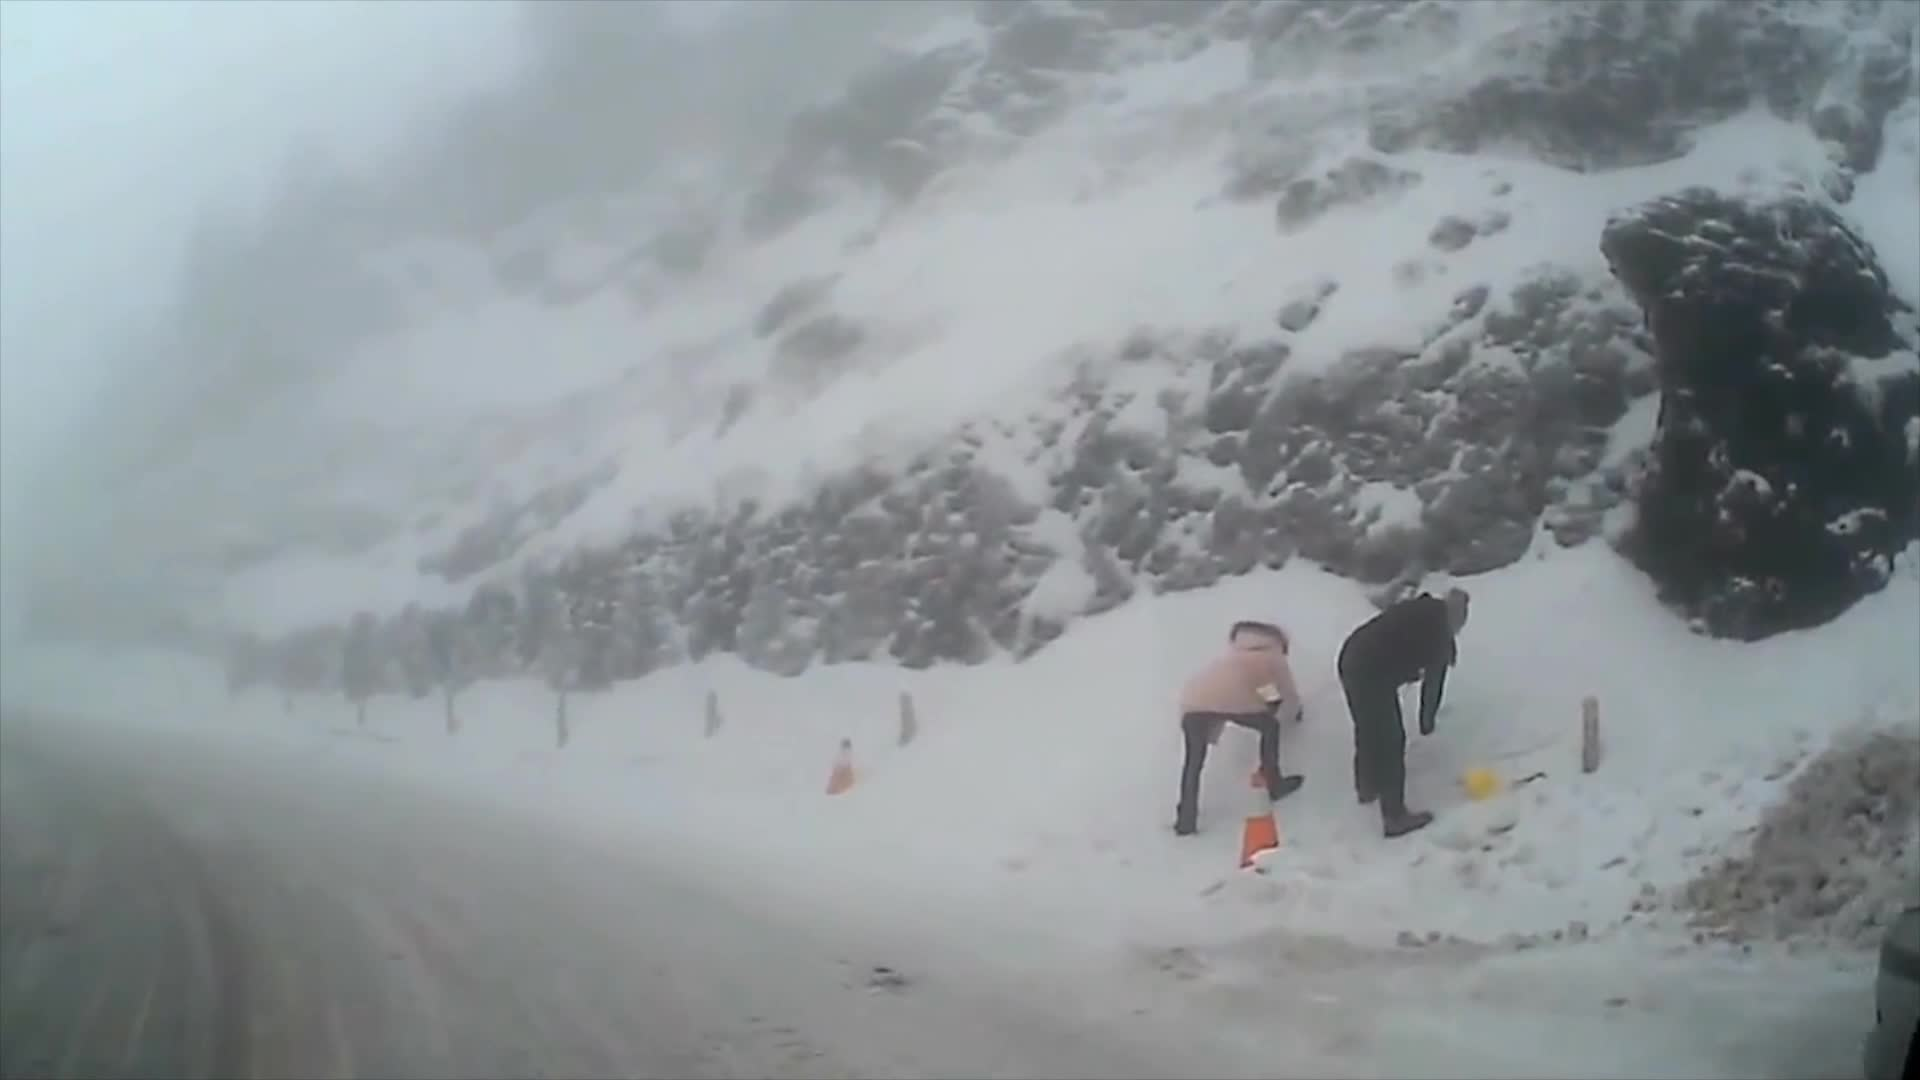pedestrian: (1341, 588, 1474, 835), (1175, 612, 1308, 842)
vehicle: (1858, 872, 1919, 1079)
